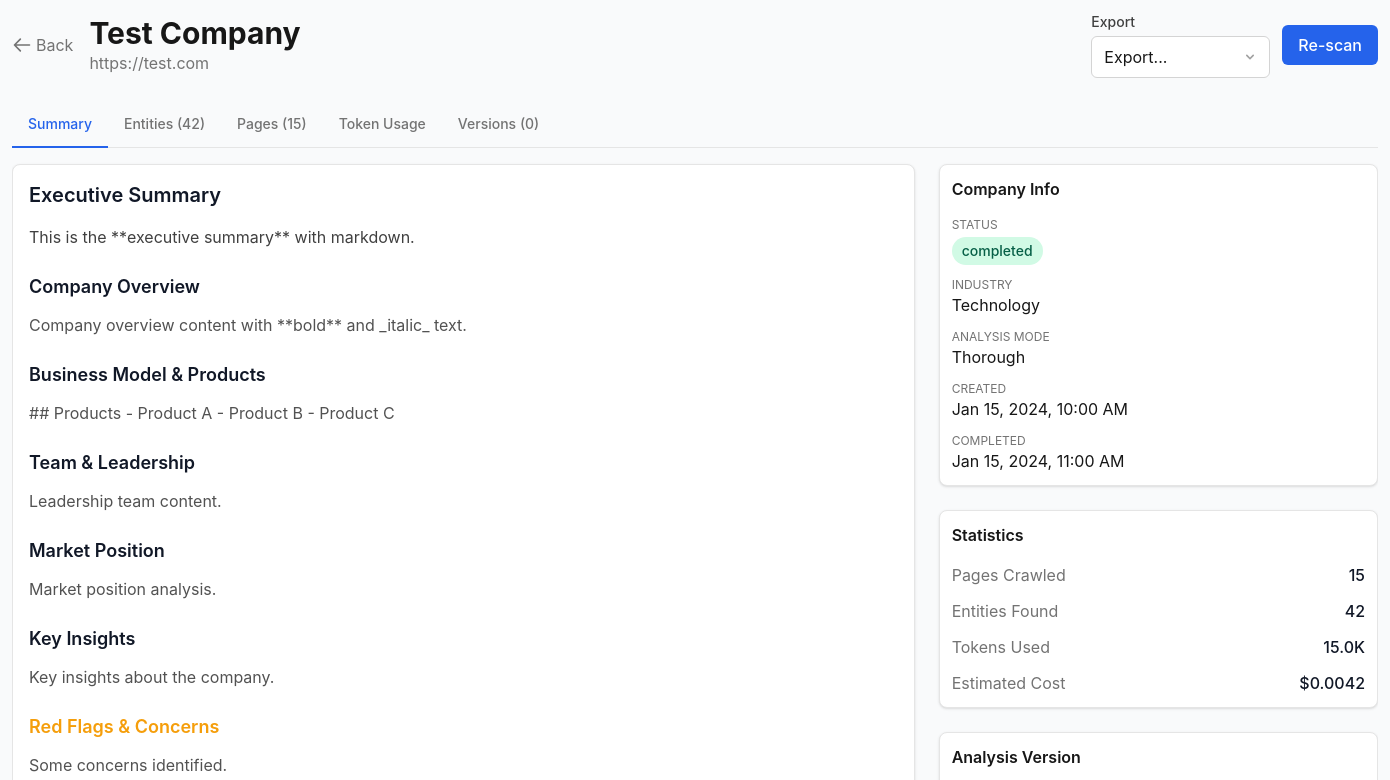
Test: Token Counter › formats cost with appropriate precision
Click the tab "Token Usage" at coordinates (382, 125), box [323,102,442,148]
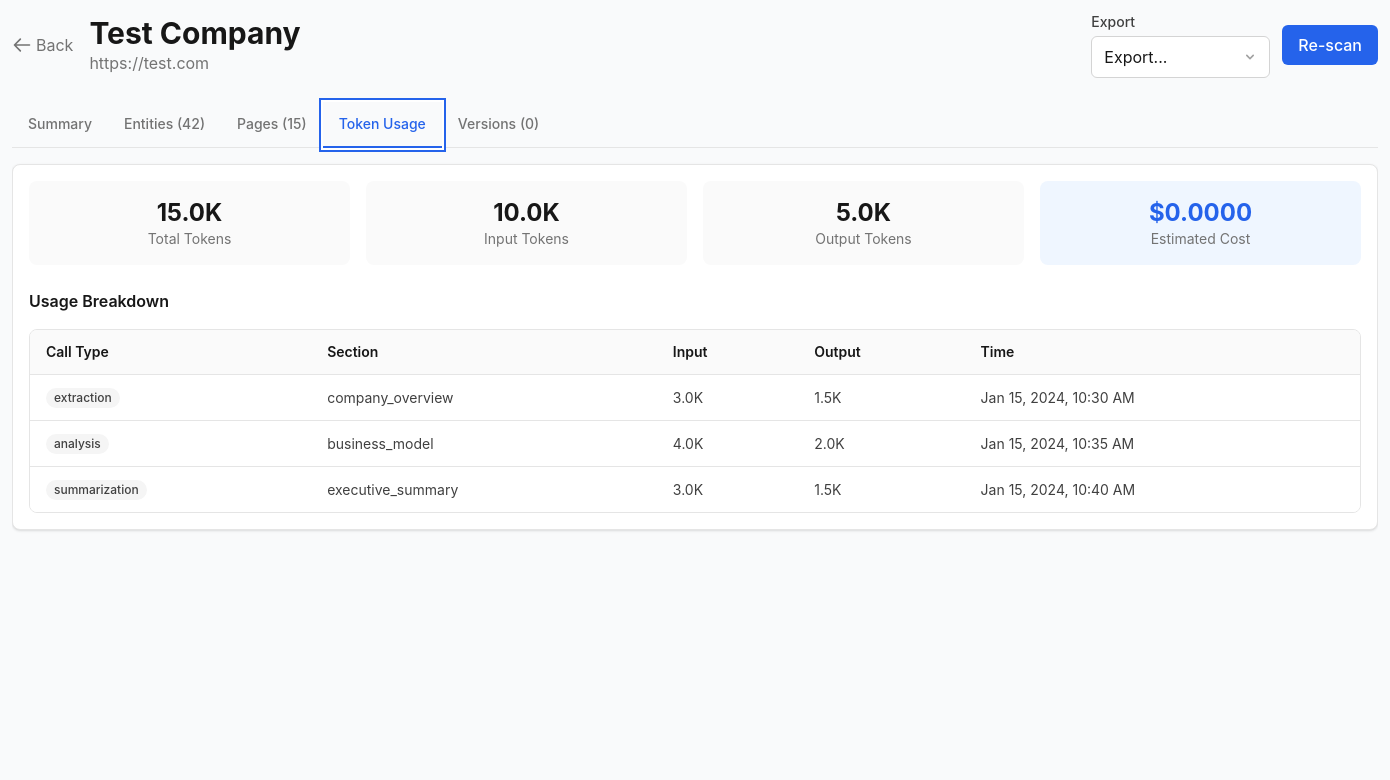
Expected: the text "Total Tokens" is shown, [148,230,231,247]
Expected: the text "$0.0000" is shown, [1149,198,1252,227]
